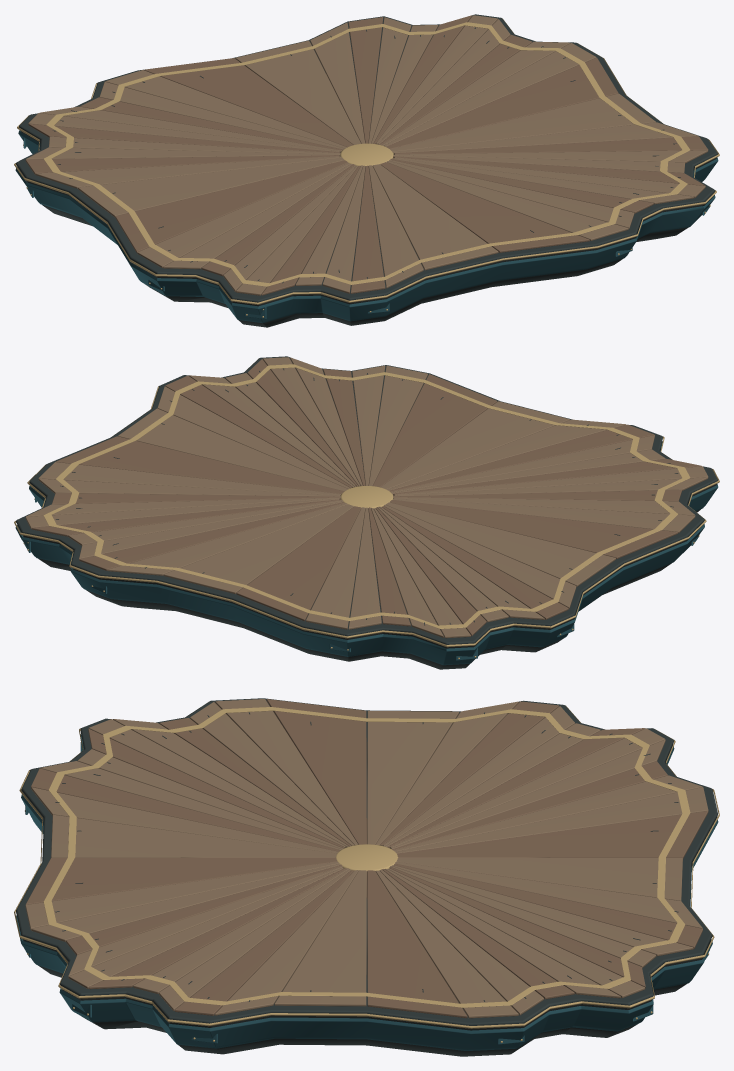
The model's file is chapter_terrace_2_0_atelier.glb.
3 renders of one model, top to bottom at view 1: azimuth 30°, elevation 25°; view 2: azimuth 150°, elevation 25°; view 3: azimuth 270°, elevation 25°, orthographic. The views are drawn at different scales.
Parts seen in each view (by area): view 1: chapter_terrace_2_0_atelier__TaggedPainted_chapter_terrace_2, chapter_terrace_2_0_atelier__Painted_chapter_terrace_2_0_ate (×2); view 2: chapter_terrace_2_0_atelier__TaggedPainted_chapter_terrace_2, chapter_terrace_2_0_atelier__Painted_chapter_terrace_2_0_ate (×2); view 3: chapter_terrace_2_0_atelier__TaggedPainted_chapter_terrace_2, chapter_terrace_2_0_atelier__Painted_chapter_terrace_2_0_ate (×2).
Part boxes in pixels (x1,y1,x2,y2): chapter_terrace_2_0_atelier__TaggedPainted_chapter_terrace_2: [16, 14, 717, 327]; chapter_terrace_2_0_atelier__Painted_chapter_terrace_2_0_ate (×2): [14, 18, 719, 323]; chapter_terrace_2_0_atelier__TaggedPainted_chapter_terrace_2: [16, 356, 717, 669]; chapter_terrace_2_0_atelier__Painted_chapter_terrace_2_0_ate (×2): [14, 358, 719, 665]; chapter_terrace_2_0_atelier__TaggedPainted_chapter_terrace_2: [16, 698, 717, 1056]; chapter_terrace_2_0_atelier__Painted_chapter_terrace_2_0_ate (×2): [14, 702, 719, 1050].
Size of the model in its own units: 22.07 by 2.63 by 20.07.
